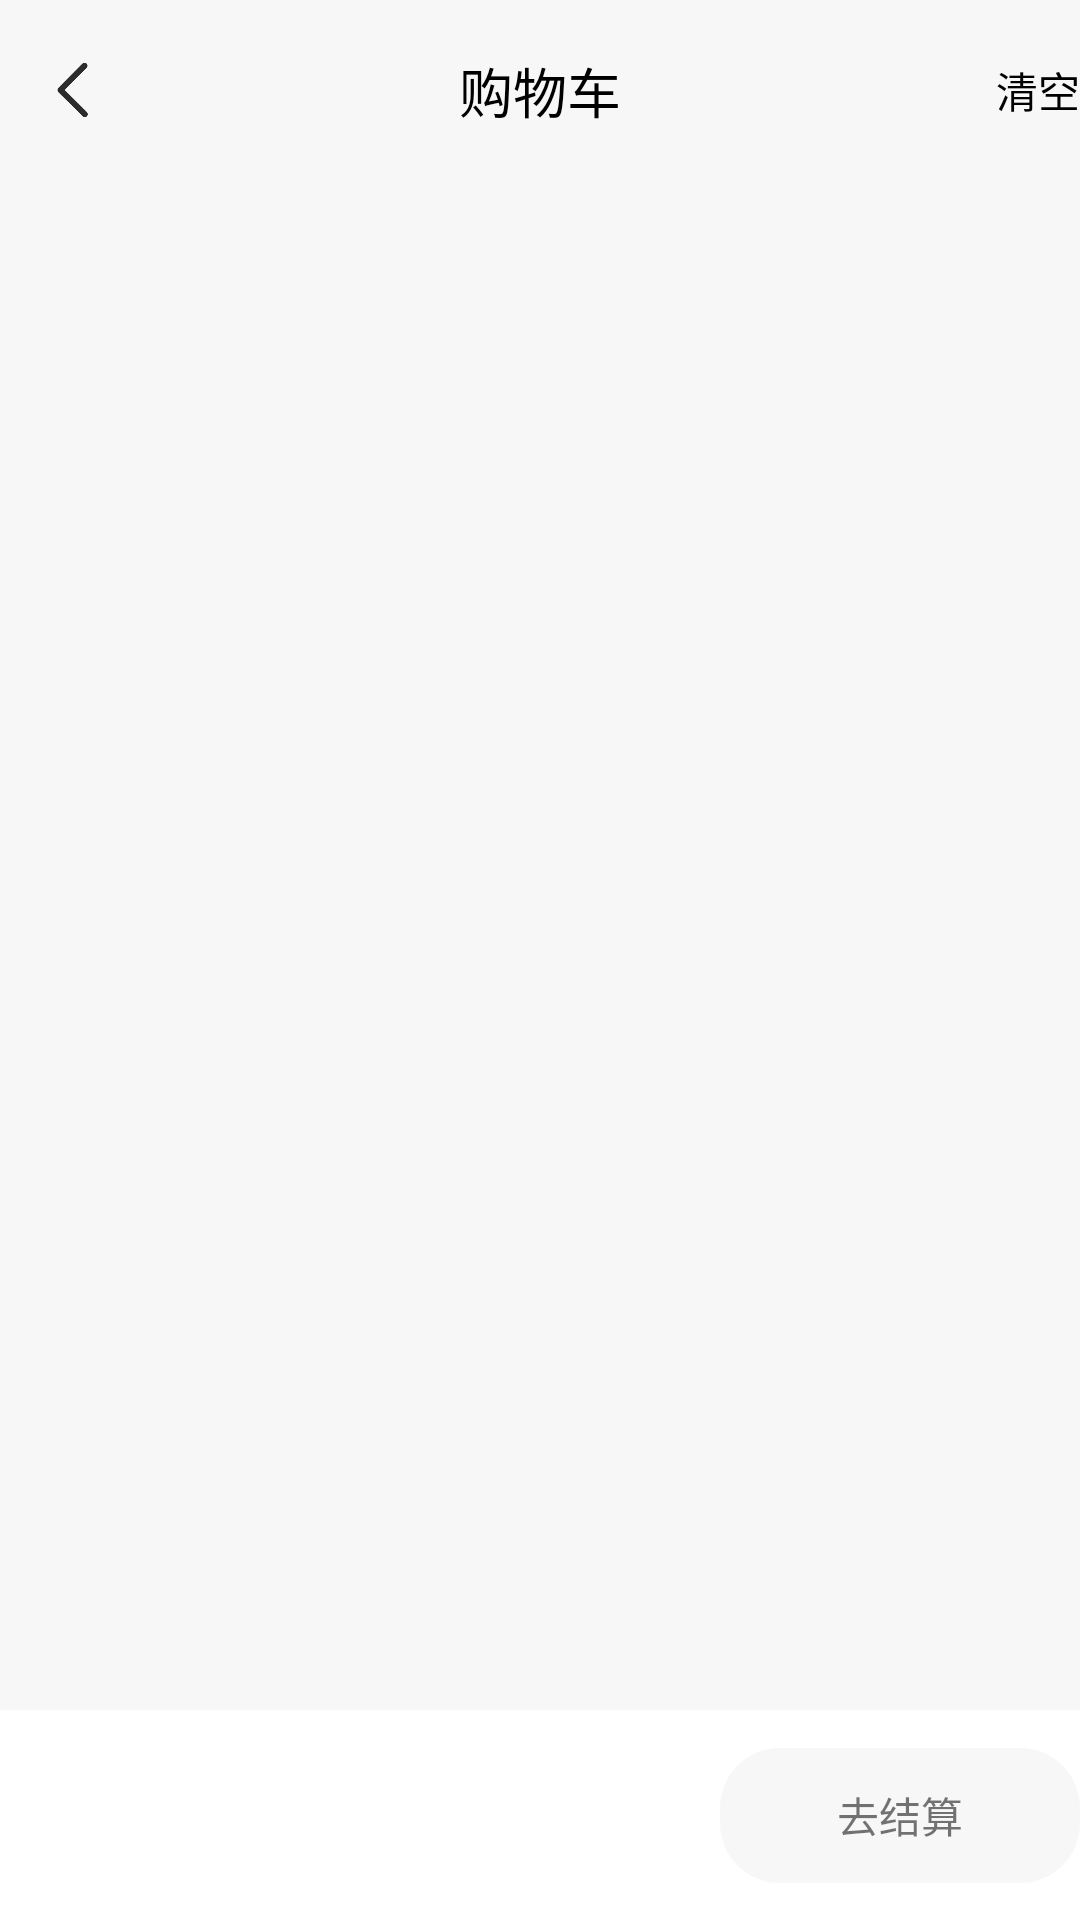

Where to tap for icons on this 1080 × 1920 app screen, as (x=x, y=y):
back: (x=72, y=90)
